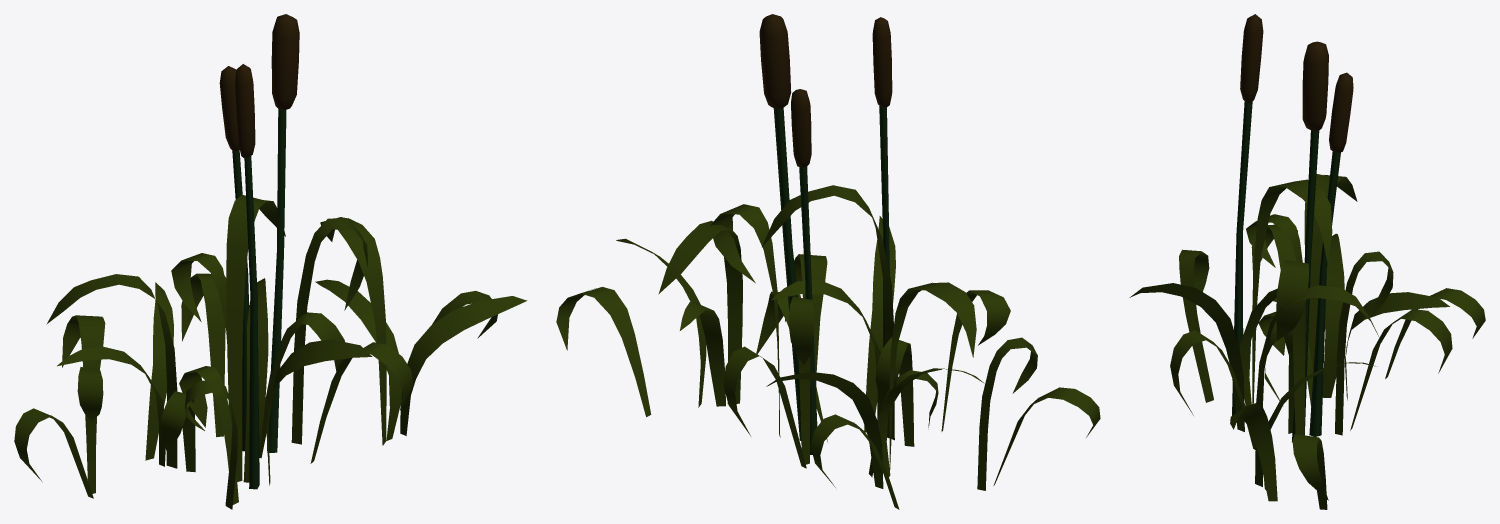
3 views of the same model, side by side, from view 1: azimuth 30°, elevation 25°; view 2: azimuth 150°, elevation 25°; view 3: azimuth 270°, elevation 25° (orthographic). The views are drawn at different scales.
Visible parts, largest first — view 1: cattail_5564; view 2: cattail_5564; view 3: cattail_5564.
Boxes of the visible parts, x1,y1,x2,y2 form: cattail_5564: (14, 14, 527, 509); cattail_5564: (556, 14, 1100, 509); cattail_5564: (1129, 14, 1485, 509).
Bounding box in the file's own units: 2.63 × 2.18 × 1.66.
